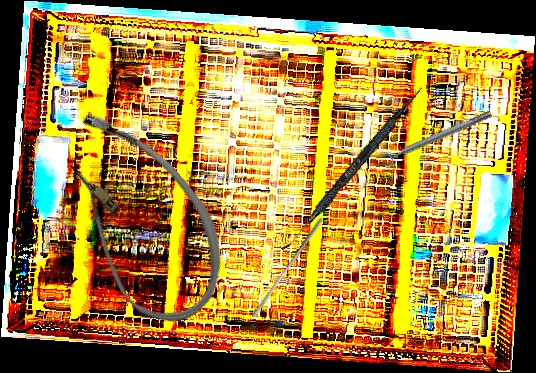Cannula: (20, 92, 255, 342)
Fixation Ring: (378, 105, 496, 170)
Pusher: (250, 214, 325, 321)
Spatula Surgical: (280, 82, 426, 256)
